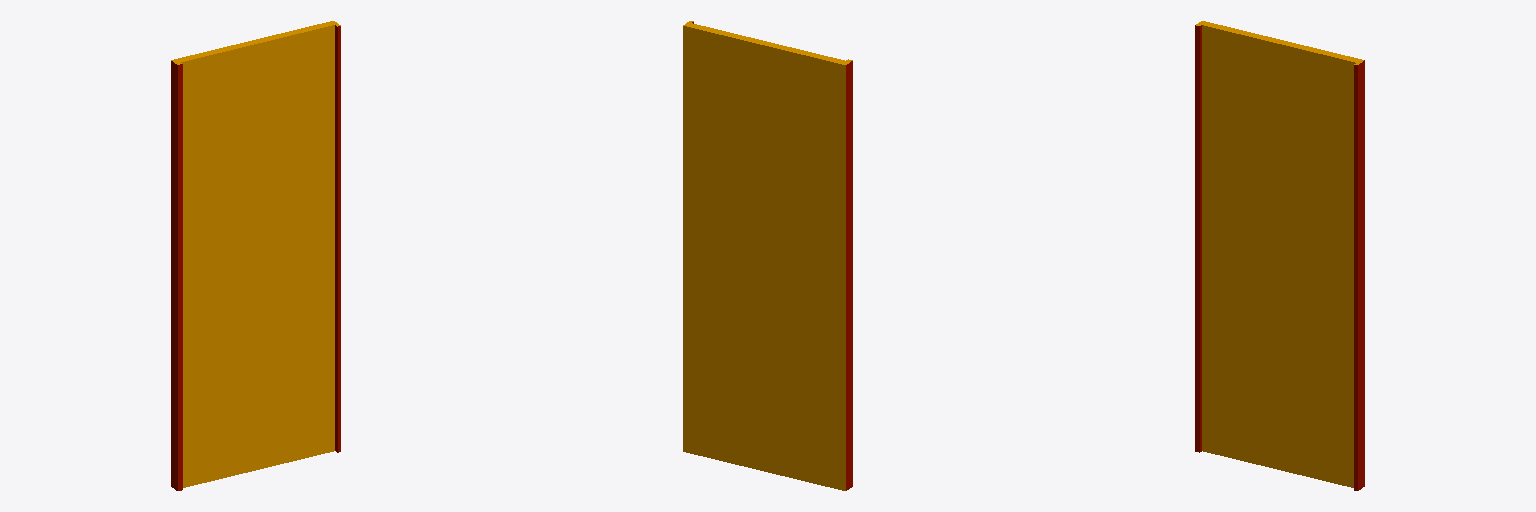
The robot description file, URDF, robot "pallet_rack":
<?xml version="1.0"?>
<robot name="pallet_rack">

  <material name="rack_blue"><color rgba="0.0 0.2 0.6 1.0"/></material>
  <material name="rack_orange"><color rgba="1.0 0.4 0.0 1.0"/></material>

  <link name="rack_base">
    
    <inertial>
      <mass value="100.0"/>
      <origin xyz="0 0 0.1" rpy="0 0 0"/>
      <inertia ixx="45.0" ixy="0.0" ixz="0.0" iyy="45.0" iyz="0.0" izz="5.0"/>
    </inertial>

    <visual><origin xyz="0 0 0" rpy="0 0 0"/><geometry><mesh filename="poll1.dae"/></geometry></visual>
    <collision><origin xyz="0 0 0" rpy="0 0 0"/><geometry><mesh filename="poll1.dae"/></geometry></collision>

    <visual><origin xyz="0 0 0" rpy="0 0 0"/><geometry><mesh filename="poll2.dae"/></geometry></visual>
    <collision><origin xyz="0 0 0" rpy="0 0 0"/><geometry><mesh filename="poll2.dae"/></geometry></collision>

    <visual><origin xyz="0 0 0" rpy="0 0 0"/><geometry><mesh filename="poll3.dae"/></geometry></visual>
    <collision><origin xyz="0 0 0" rpy="0 0 0"/><geometry><mesh filename="poll3.dae"/></geometry></collision>

    <visual><origin xyz="0 0 0" rpy="0 0 0"/><geometry><mesh filename="poll4.dae"/></geometry></visual>
    <collision><origin xyz="0 0 0" rpy="0 0 0"/><geometry><mesh filename="poll4.dae"/></geometry></collision>

    <visual><origin xyz="0 0 0.4" rpy="0 0 0"/><geometry><mesh filename="base.dae"/></geometry></visual>
    <collision><origin xyz="0 0 0.4" rpy="0 0 0"/><geometry><mesh filename="base.dae"/></geometry></collision>

    <visual><origin xyz="0 0 1.0" rpy="0 0 0"/><geometry><mesh filename="base.dae"/></geometry></visual>
    <collision><origin xyz="0 0 1.0" rpy="0 0 0"/><geometry><mesh filename="base.dae"/></geometry></collision>

    <visual><origin xyz="0 0 1.6" rpy="0 0 0"/><geometry><mesh filename="base.dae"/></geometry></visual>
    <collision><origin xyz="0 0 1.6" rpy="0 0 0"/><geometry><mesh filename="base.dae"/></geometry></collision>

    <visual><origin xyz="0 0 2.2" rpy="0 0 0"/><geometry><mesh filename="base.dae"/></geometry></visual>
    <collision><origin xyz="0 0 2.2" rpy="0 0 0"/><geometry><mesh filename="base.dae"/></geometry></collision>

  </link>
</robot>

--- Facts derived from the render (not from the file) ---
The picture shows the robot from 3 angles, left to right: view 1: azimuth 30°, elevation 25°; view 2: azimuth 150°, elevation 25°; view 3: azimuth 330°, elevation 25°; orthographic projection.
Robot: pallet_rack — 1 links, 0 joints (none); root link rack_base; default pose: every joint at zero.
Visible links, largest first — view 1: rack_base; view 2: rack_base; view 3: rack_base.
Boxes of the visible links, x1,y1,x2,y2 form: rack_base: (171,21,340,490); rack_base: (683,21,852,490); rack_base: (1195,21,1364,490).
Bounding box of the posed robot: 1.2 × 0.09 × 3 m (x, y, z).
Meshes: 5 distinct files referenced, 4 mesh visuals loaded (1 Collada DAE); not drawn: 4 (reference not matched to a file when rendering).
